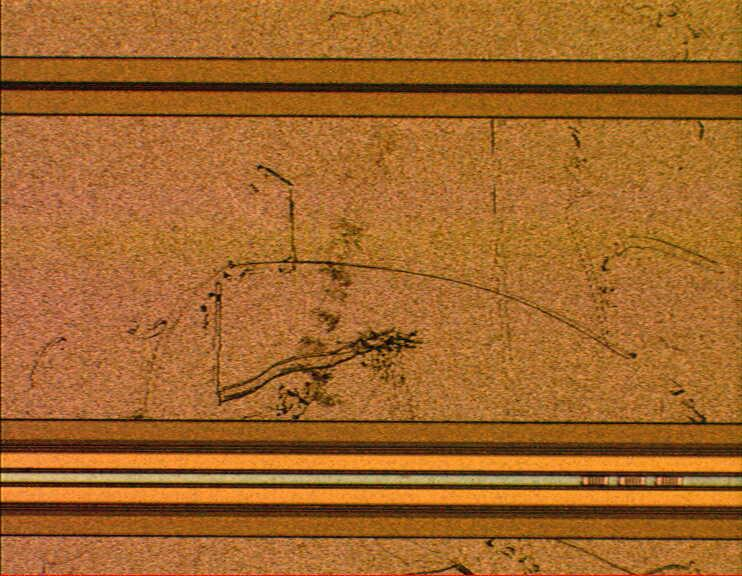SCRATCH: (24, 1, 731, 576)
